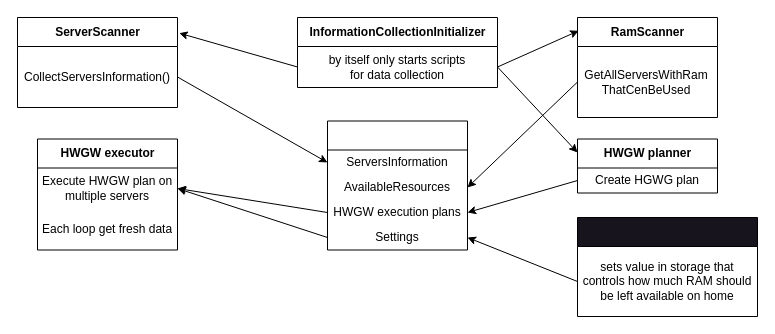
Some shapes in this 775 by 334 pixel diagram are drawn without their labels. Each missing label, with the box of its shape:
DataStorage: (326, 120, 468, 250)
SetMinimumFreeRAM: (576, 216, 758, 316)
